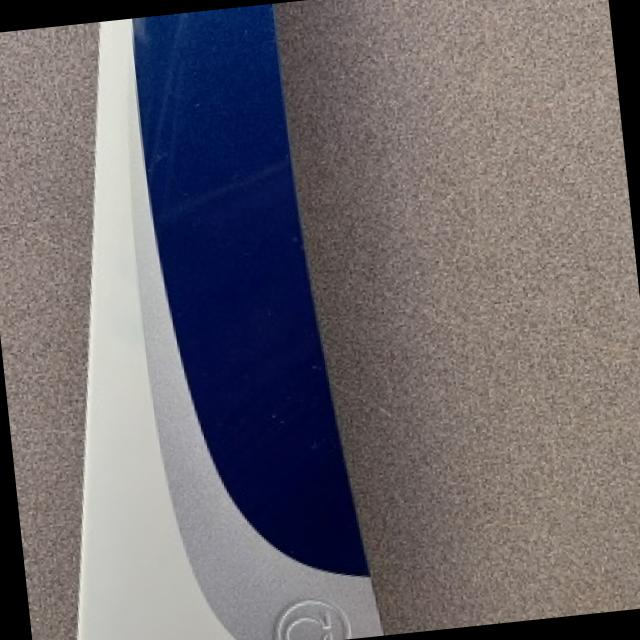healthy: (276, 0, 640, 633), (0, 22, 98, 640)
